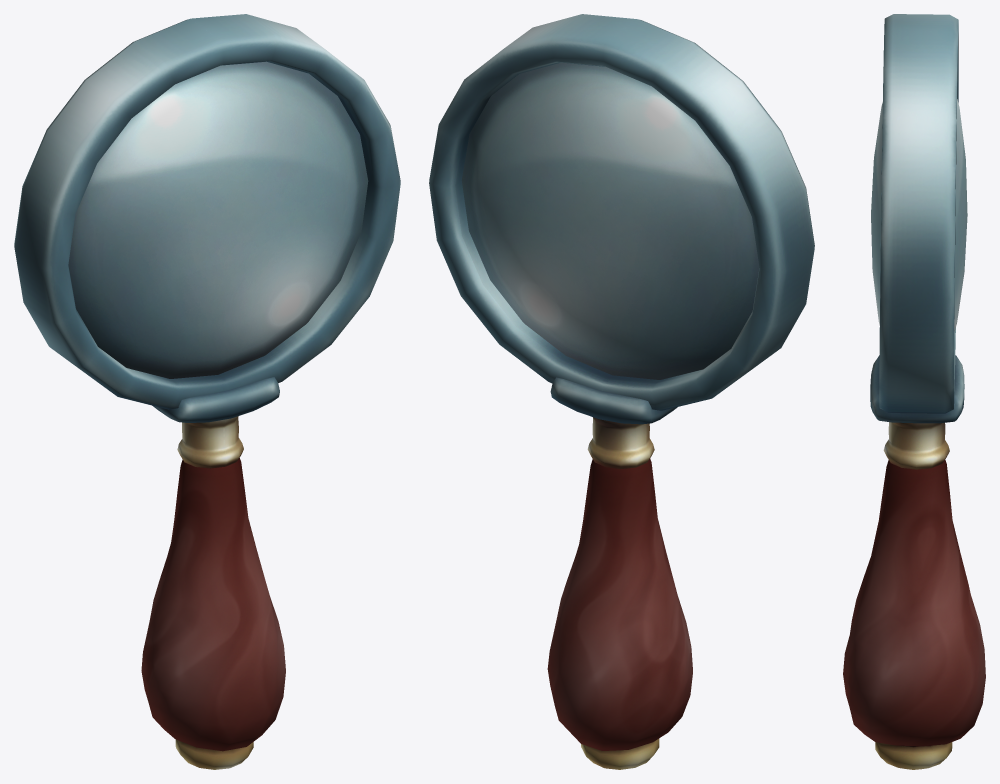
The model's file is Magnifying Glass.FBX.
3 renders of one model, left to right at view 1: azimuth 30°, elevation 25°; view 2: azimuth 150°, elevation 25°; view 3: azimuth 270°, elevation 25°, orthographic.
Visible parts, largest first — view 1: Magnifying Glass; view 2: Magnifying Glass; view 3: Magnifying Glass.
Part boxes in pixels (x1,y1,x2,y2): Magnifying Glass: (14,14,400,769); Magnifying Glass: (429,14,814,769); Magnifying Glass: (843,14,985,769).
Bounding box in the file's own units: 24.36 × 8.51 × 47.95.
1 material, 1 textured.
